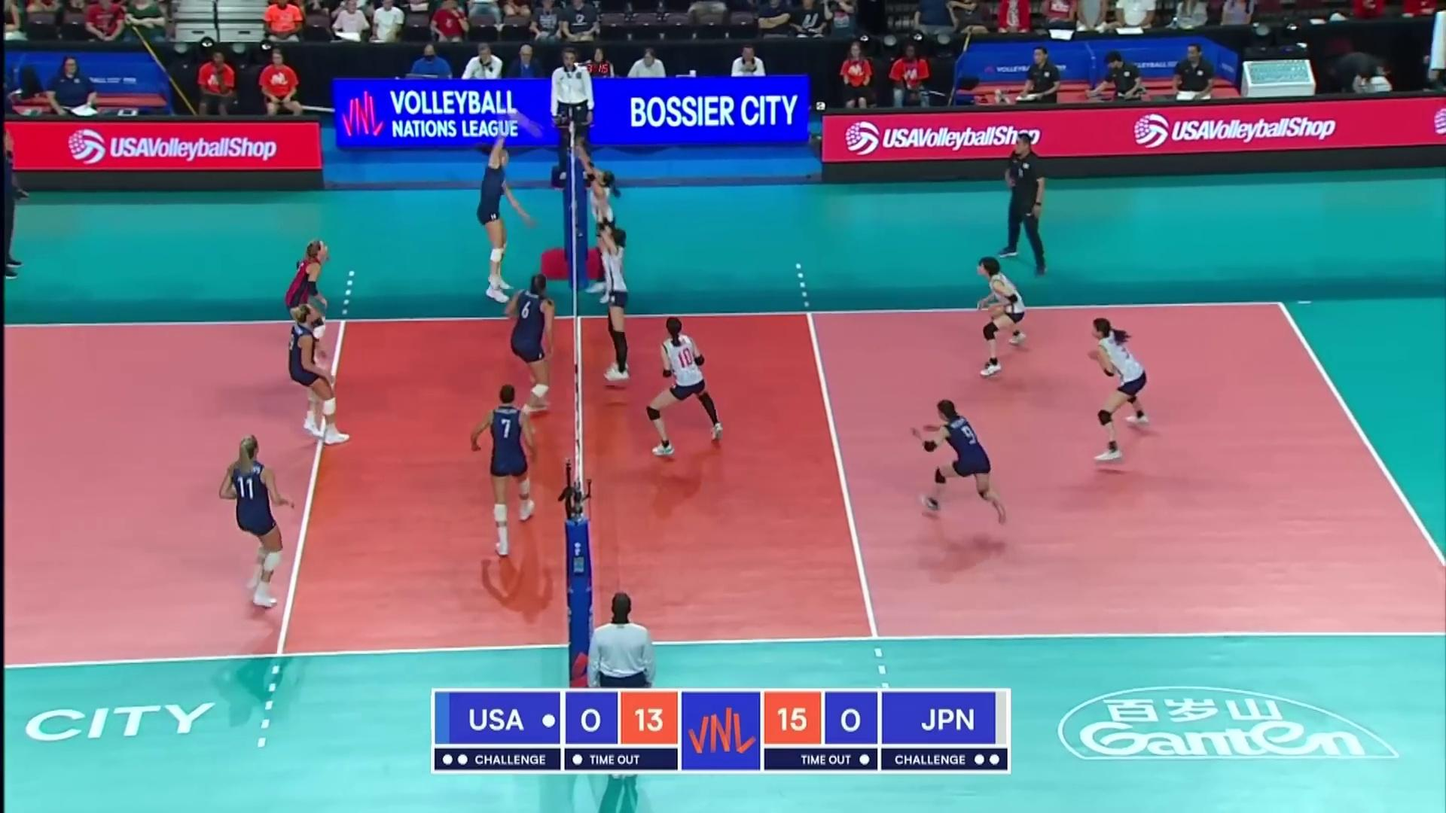player: (915, 400, 1014, 522), (227, 437, 294, 611), (647, 318, 724, 459), (475, 385, 536, 559), (1088, 318, 1155, 463), (289, 304, 348, 445), (975, 258, 1035, 379), (480, 142, 523, 300), (590, 166, 636, 310), (288, 239, 334, 382), (512, 274, 554, 414), (599, 225, 633, 383)
refree: (583, 592, 658, 691), (553, 47, 595, 176)
